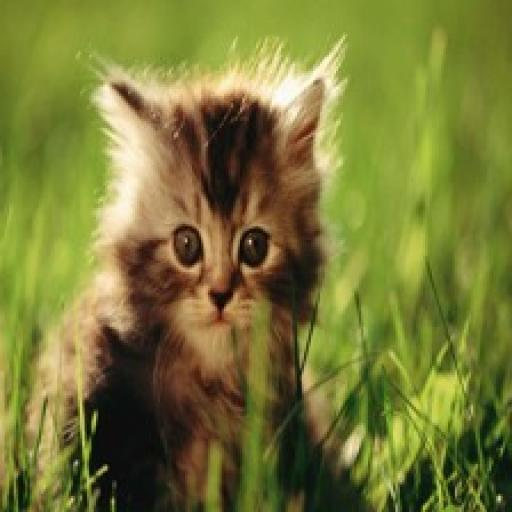cat: (18, 37, 378, 512)
